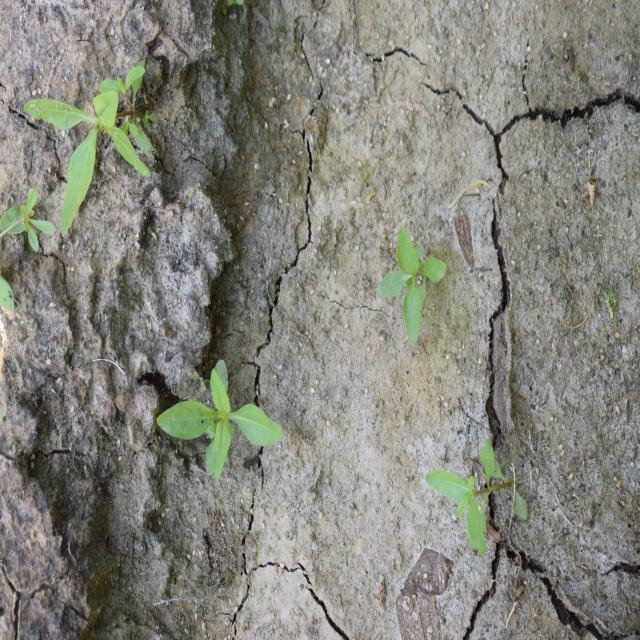Carpetweed: (19, 191, 60, 252)
Eclipta: (23, 55, 158, 238), (155, 358, 284, 483), (424, 436, 530, 558), (376, 226, 448, 347)
